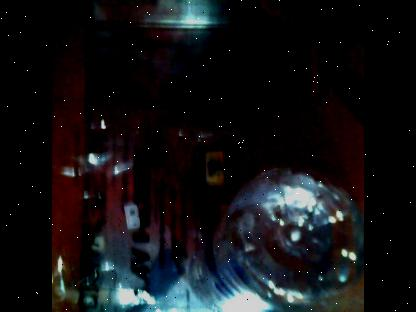Plastic Bottle: (183, 162, 360, 312)
